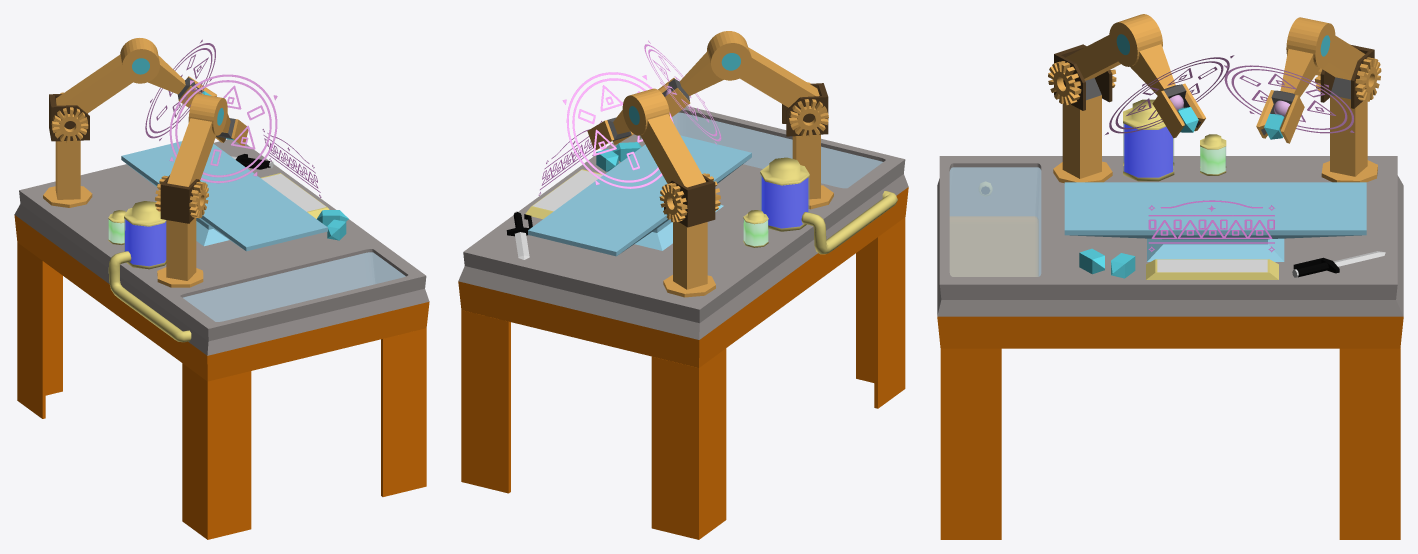
The model's file is 洗い場ソリッド後.fbx.
3 views of the same model, side by side, from view 1: azimuth 30°, elevation 25°; view 2: azimuth 150°, elevation 25°; view 3: azimuth 270°, elevation 25° (orthographic). The views are drawn at different scales.
Visible parts, largest first — view 1: 左アーム.001, 左アーム, 右アーム, 洗浄薬, 平面; view 2: 左アーム.001, 右アーム, 左アーム, 洗浄薬, 立方体, 平面; view 3: 左アーム.001, 左アーム, 右アーム, 洗浄薬, 平面, 立方体.
Part boxes in pixels (bbox=[...]): 左アーム.001: bbox=[14, 139, 429, 539]; 左アーム: bbox=[155, 74, 277, 287]; 右アーム: bbox=[43, 38, 216, 207]; 洗浄薬: bbox=[108, 201, 191, 342]; 平面: bbox=[262, 129, 321, 197]; 左アーム.001: bbox=[458, 106, 908, 539]; 右アーム: bbox=[562, 72, 720, 297]; 左アーム: bbox=[644, 31, 833, 209]; 洗浄薬: bbox=[743, 157, 897, 254]; 立方体: bbox=[506, 211, 532, 259]; 平面: bbox=[538, 121, 601, 195]; 左アーム.001: bbox=[937, 156, 1403, 539]; 左アーム: bbox=[1048, 14, 1234, 183]; 右アーム: bbox=[1224, 17, 1381, 182]; 洗浄薬: bbox=[979, 99, 1226, 196]; 平面: bbox=[1148, 200, 1274, 252]; 立方体: bbox=[1292, 251, 1385, 277].
Size of the model in its own units: 426 by 635 by 612.
